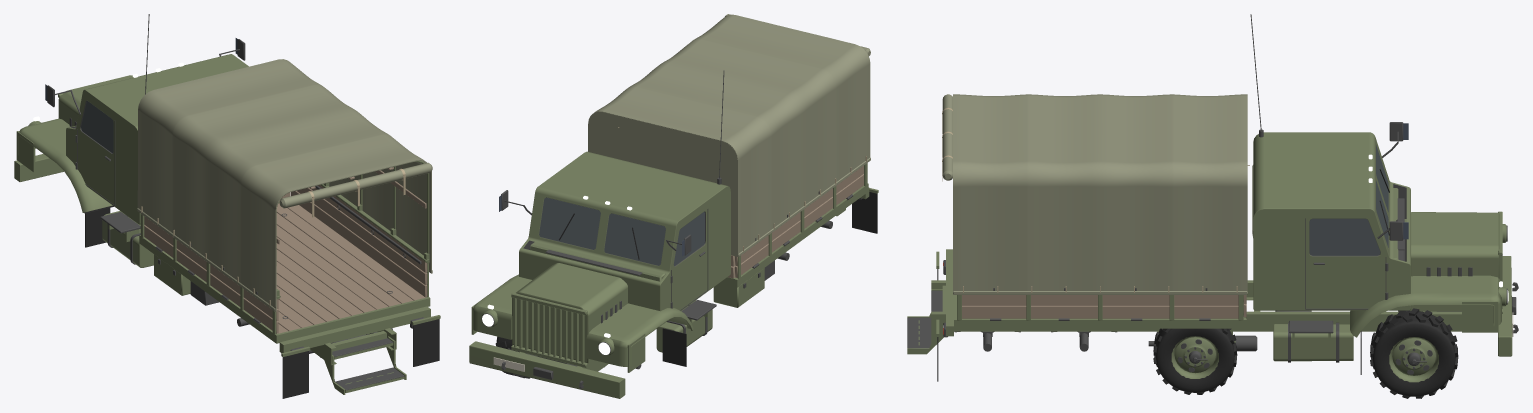
File: truck.glb
3 views of the same model, side by side, from view 1: azimuth 30°, elevation 25°; view 2: azimuth 150°, elevation 25°; view 3: azimuth 270°, elevation 25° (orthographic). The views are drawn at different scales.
Visible parts, largest first — view 1: canopy, bed, cab, chassis; view 2: canopy, cab, chassis, bed; view 3: canopy, cab, chassis, bed, wheel.
Boxes of the visible parts, box(x1,y1,x2,y2) form: canopy: box(137, 59, 432, 311); bed: box(139, 184, 430, 343); cab: box(16, 14, 248, 224); chassis: box(14, 154, 440, 398); canopy: box(588, 14, 870, 256); cab: box(471, 70, 730, 372); chassis: box(469, 187, 878, 398); bed: box(720, 163, 868, 287); canopy: box(942, 94, 1249, 294); cab: box(1250, 14, 1508, 337); chassis: box(907, 249, 1518, 394); bed: box(954, 288, 1246, 328); wheel: box(1370, 308, 1458, 398).
Bounding box in the file's own units: 2.95 × 4.27 × 7.6.
